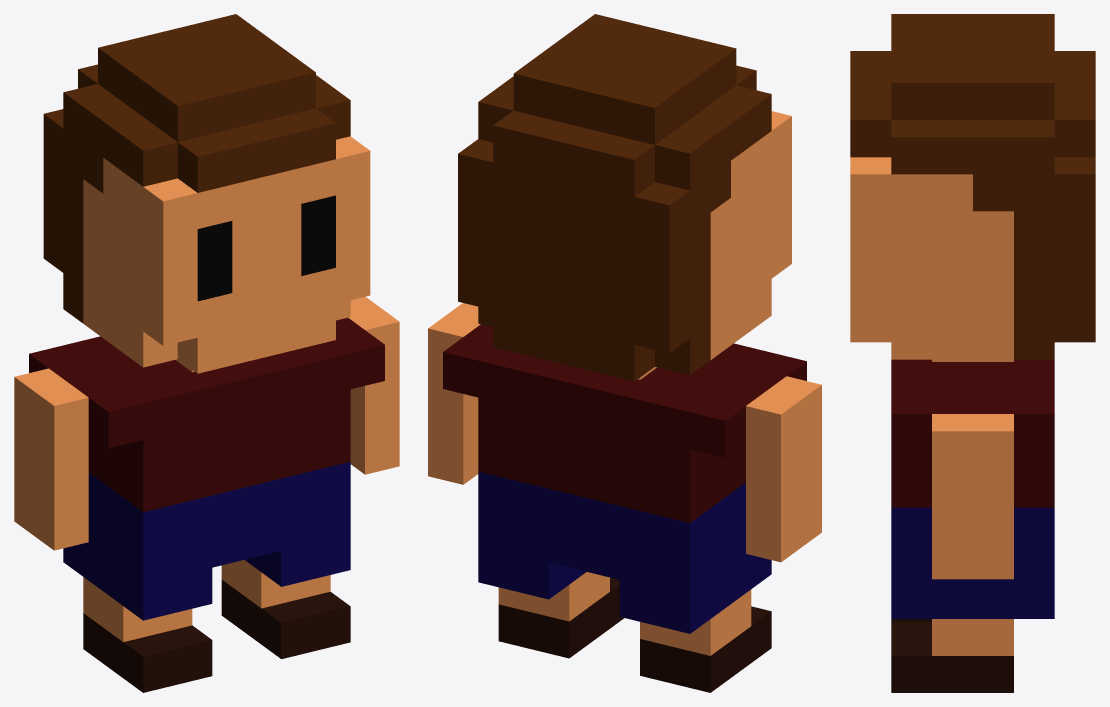
The model's file is boy.obj.
3 renders of one model, left to right at view 1: azimuth 30°, elevation 25°; view 2: azimuth 150°, elevation 25°; view 3: azimuth 270°, elevation 25°, orthographic. The views are drawn at different scales.
Visible parts, largest first — view 1: Cube.374_Cube.375; view 2: Cube.374_Cube.375; view 3: Cube.374_Cube.375.
Part boxes in pixels (<box>): Cube.374_Cube.375: <box>14,14,399,692</box>; Cube.374_Cube.375: <box>428,14,821,692</box>; Cube.374_Cube.375: <box>850,14,1095,692</box>.
Bounding box in the file's own units: 0.625 × 1 × 0.375.
